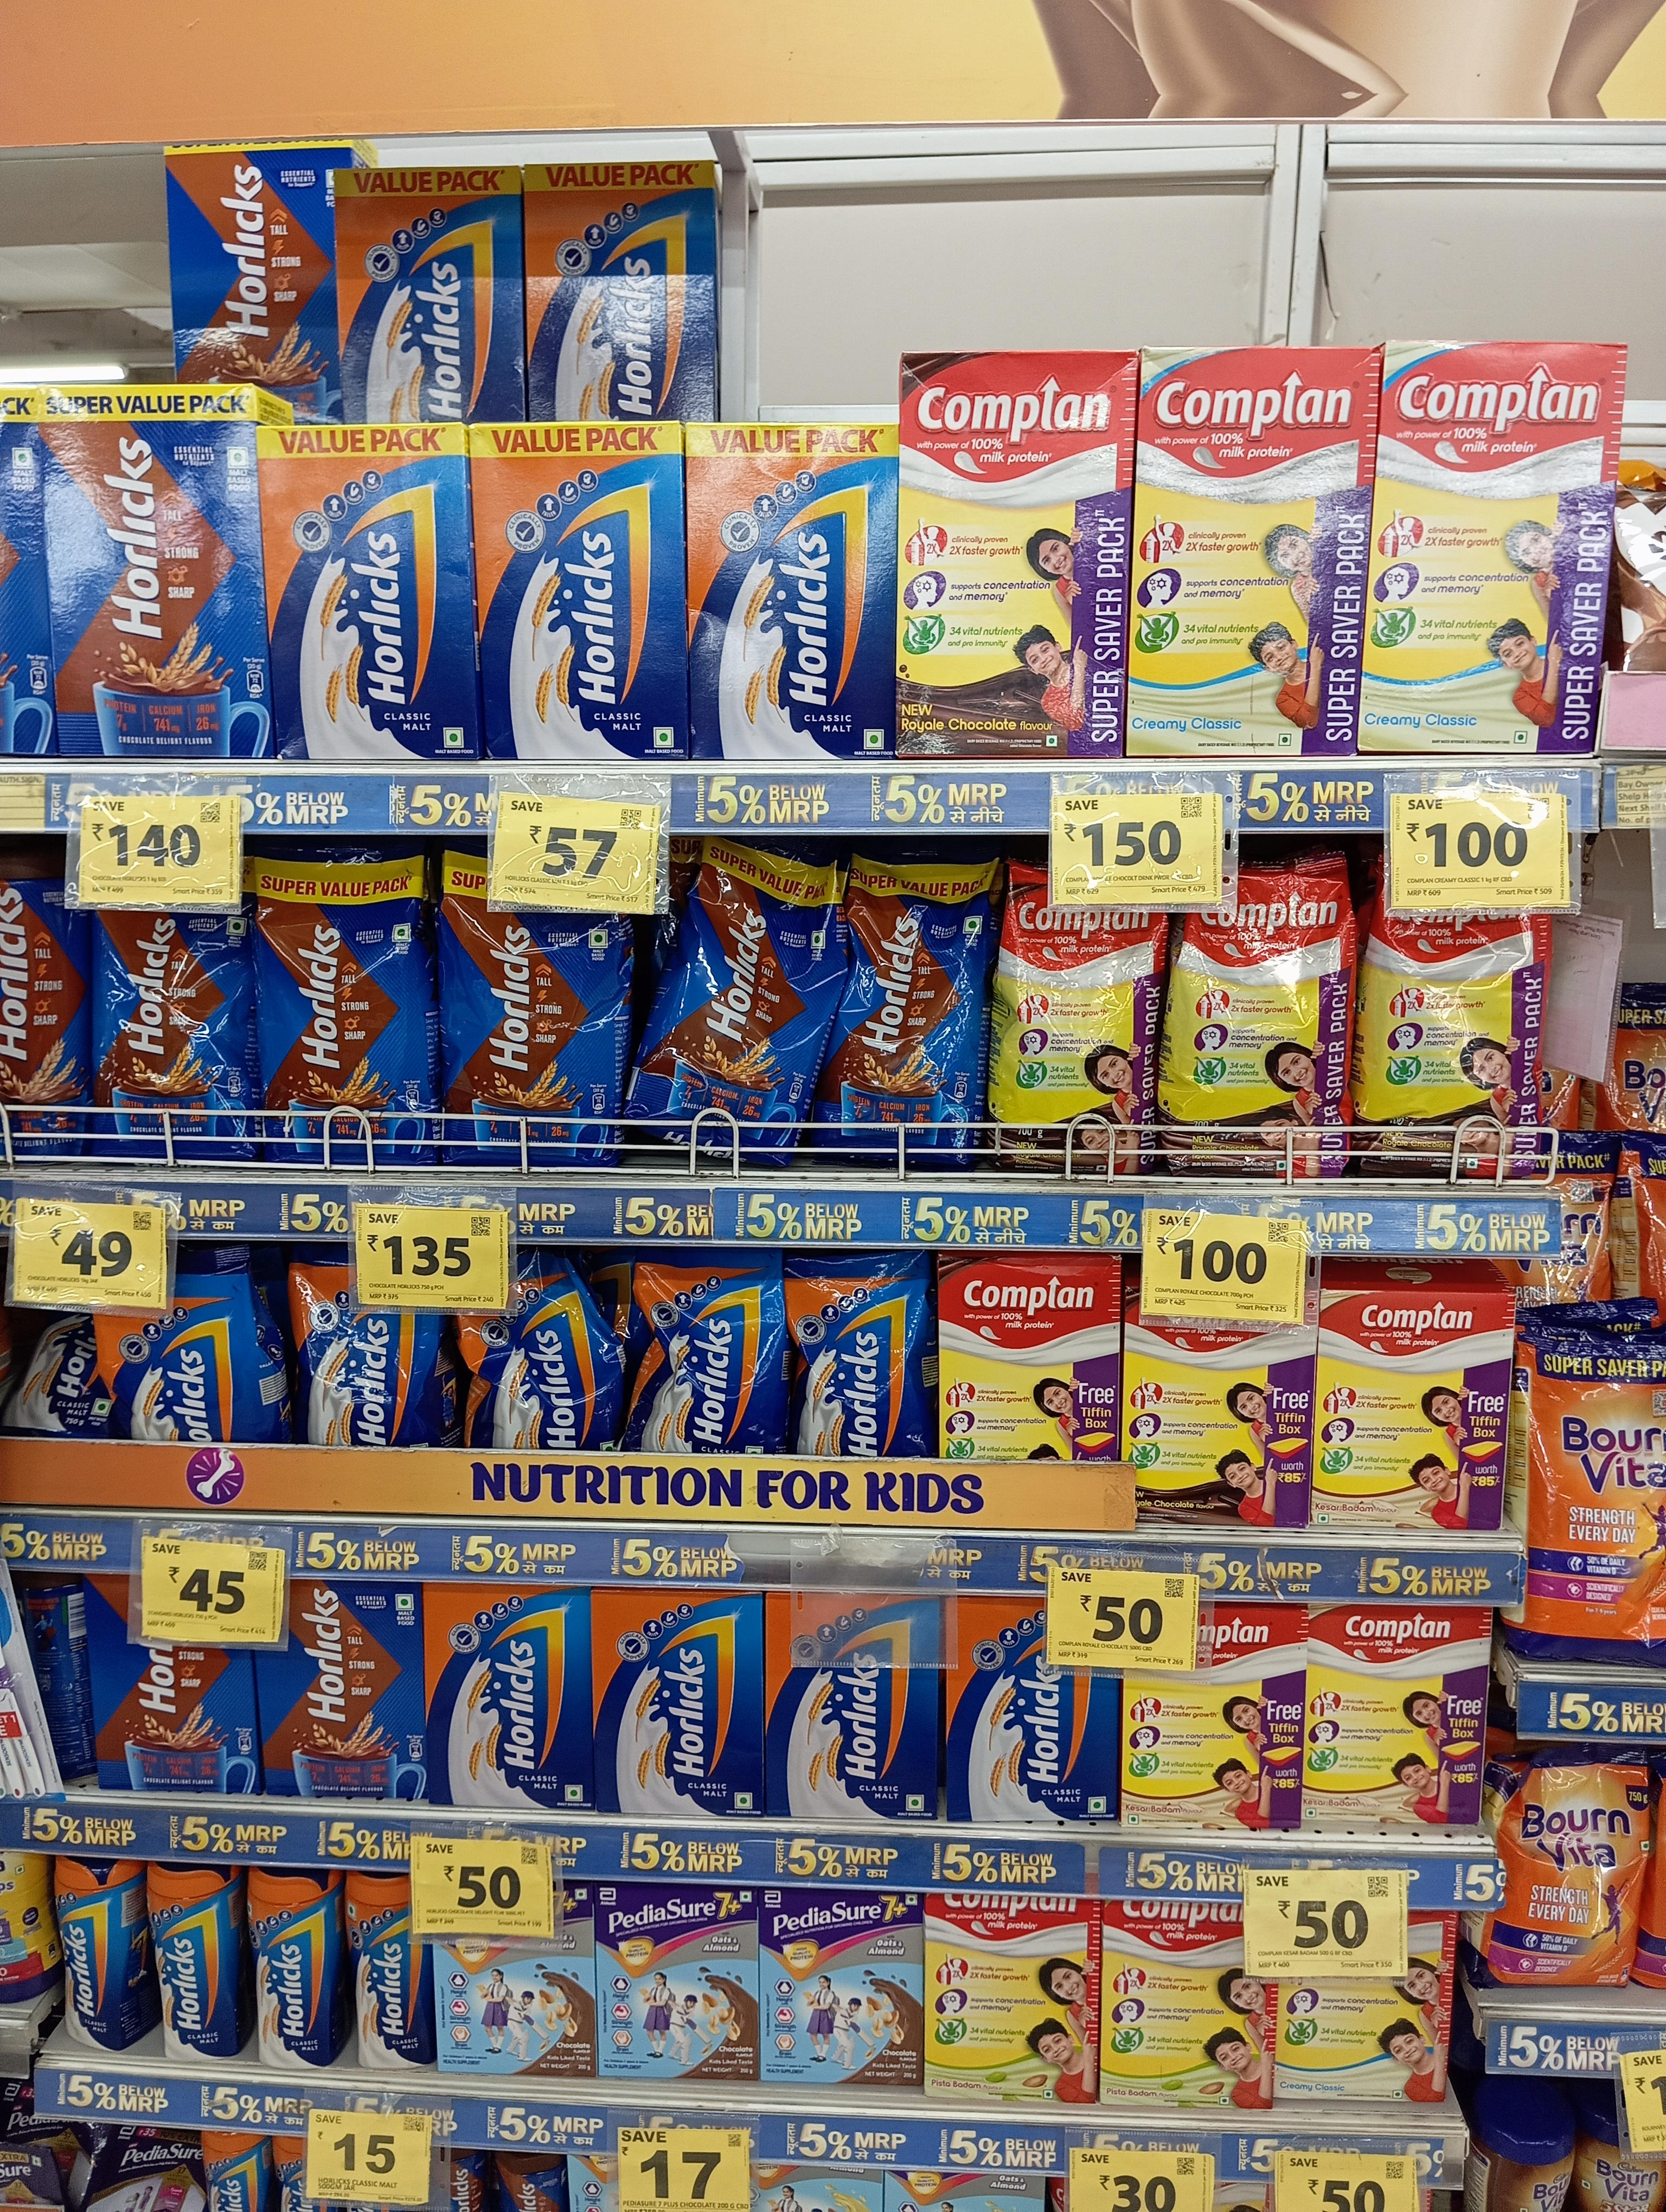BOURN_VITA_1_KG_POUCH: (1521, 1332, 1666, 1663)
BOURN_VITA_750_G_POUCH: (1507, 1754, 1666, 1997)
COMPLAN_CHOCOLATE_1_KG_PACK: (905, 351, 1125, 757)
COMPLAN_CHOCOLATE_500_GMS_PACK: (1125, 1320, 1309, 1532), (941, 1264, 1122, 1465)
COMPLAN_CREAMY_CLASSIC_500_G_PACK: (1279, 1964, 1454, 2105)
COMPLAN_KESAR_BADAM_500_GMS_PACK: (1319, 1292, 1503, 1532), (1129, 1614, 1300, 1829), (1311, 1612, 1479, 1827)
COMPLAN_PISTA_BADAM_500_GMS_PACK: (926, 1892, 1096, 2105), (1101, 1897, 1269, 2111)
COMPLAN_RC_POUCH_700_GMS_12: (1174, 871, 1351, 1177), (1362, 916, 1543, 1184), (1008, 878, 1155, 1182)
HORLICK_CHOCOLATE_1_KG_JAR: (0, 845, 89, 1168)
HORLICK_CHOCOLATE_1_KG_PACK: (42, 385, 256, 757), (166, 140, 336, 385)
HORLICK_CHOCOLATE_500_G_PACK: (259, 1584, 418, 1799), (87, 1584, 242, 1792)
HORLICK_CHOCOLATE_750_G_POUCH: (254, 841, 436, 1172), (660, 839, 821, 1168), (446, 887, 625, 1166), (840, 857, 982, 1165), (95, 908, 249, 1172)
HORLICK_CLASSIC_MALT_500_G_JAR: (149, 1857, 236, 2060), (250, 1866, 334, 2069), (348, 1871, 429, 2077), (56, 1852, 117, 2058)
HORLICK_CLASSIC_MALT_500_G_PACK: (424, 1581, 588, 1813), (768, 1591, 935, 1820), (947, 1602, 1115, 1827), (595, 1586, 756, 1819)
HORLICK_CLASSIC_MALT_750_G_POUCH: (644, 1250, 779, 1458), (476, 1261, 614, 1458), (798, 1263, 929, 1460), (297, 1268, 434, 1450), (102, 1276, 250, 1443)
PEDIASURE_7_PLUS_CHOCOLATE_400_G_PACK: (595, 1883, 754, 2083), (761, 1887, 921, 2084), (437, 1937, 593, 2079)
